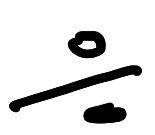div: (7, 30, 142, 124)
